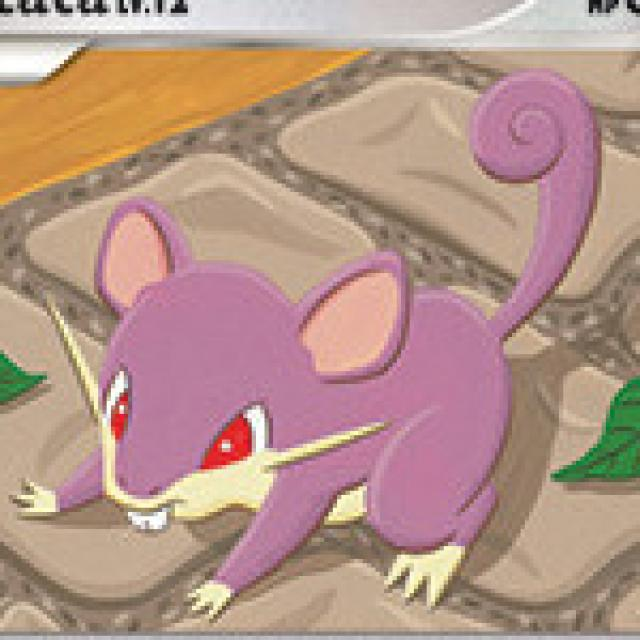Rattata: (36, 183, 512, 611)
